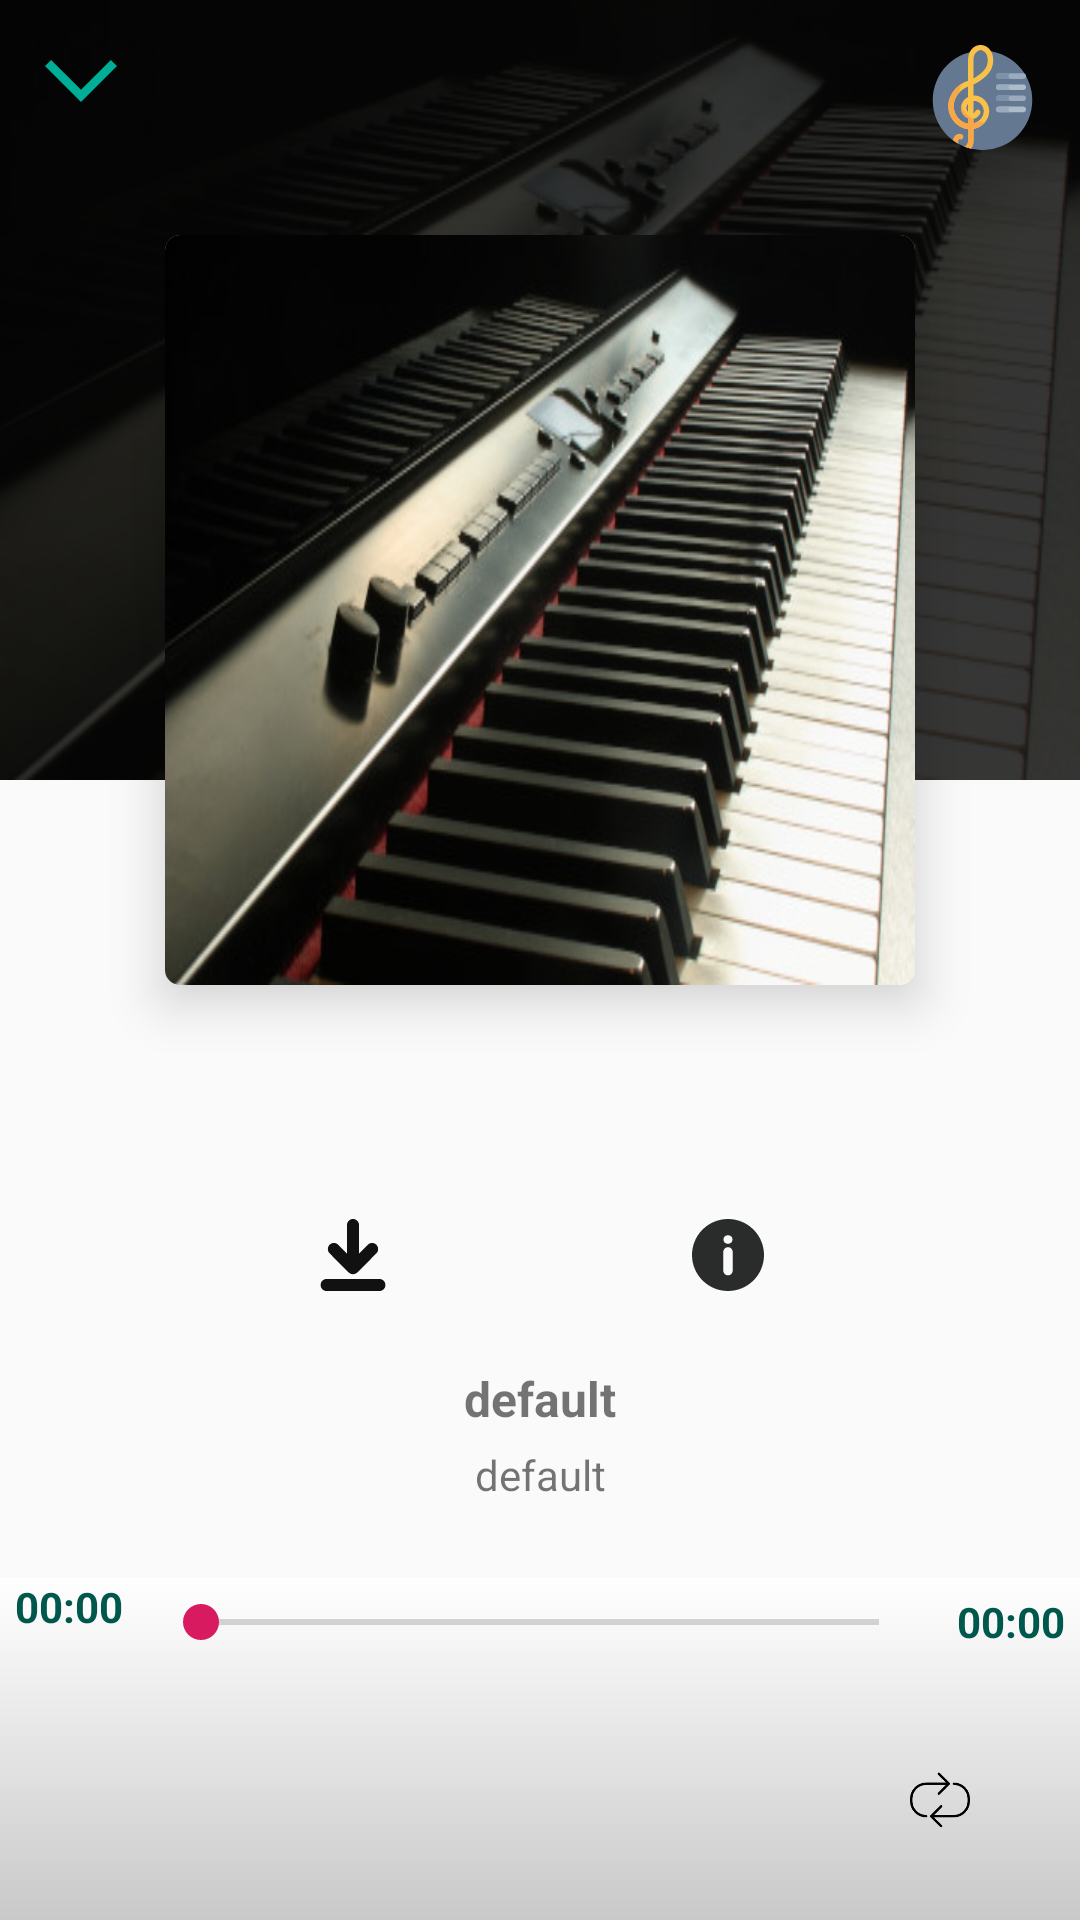

Where icons sit on this 1080x1920 app screen, as (x1, y1, x2, y2):
down arrow: (45, 60, 117, 102)
download: (320, 1219, 386, 1291)
info: (692, 1219, 764, 1291)
list: (930, 45, 1035, 150)
loop none: (910, 1772, 970, 1828)
